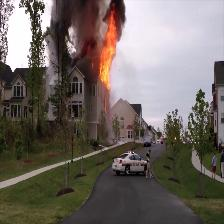fire: (104, 17, 113, 83)
smoke: (52, 1, 94, 57)
